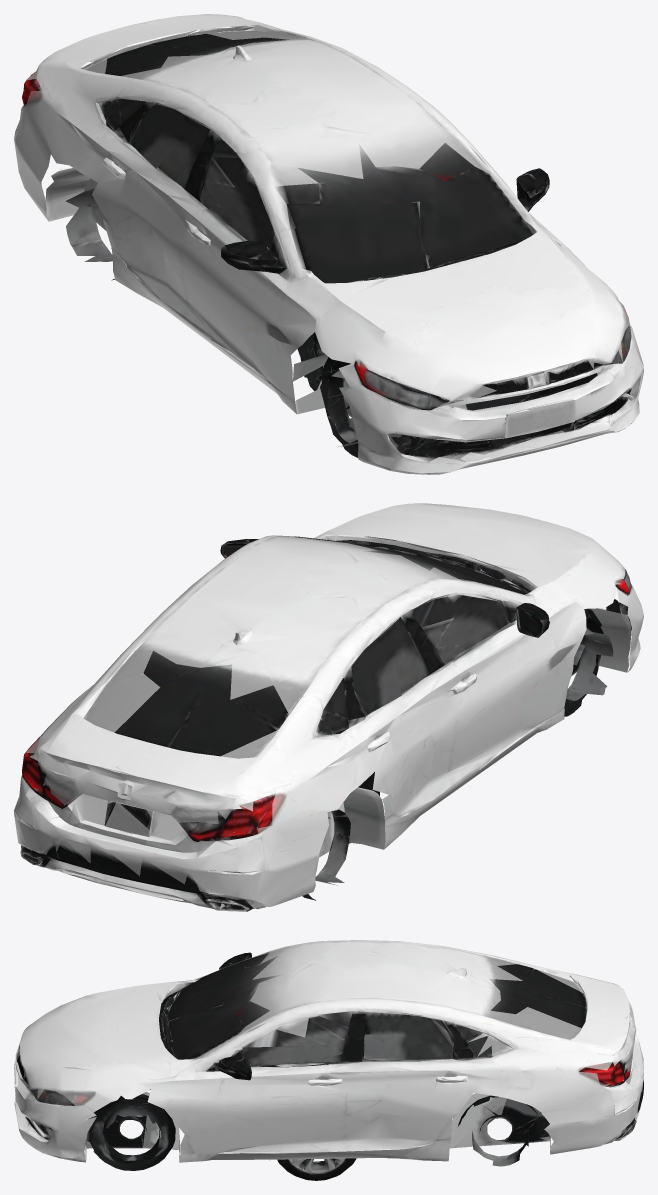
Rendered from honda-accord-v1.glb.
3 views of the same model, one above another, from view 1: azimuth 30°, elevation 25°; view 2: azimuth 150°, elevation 25°; view 3: azimuth 270°, elevation 25° (orthographic). The views are drawn at different scales.
Visible parts, largest first — view 1: paint, trim, wheel; view 2: paint, trim, taillamp; view 3: paint, trim, wheel, taillamp.
Part boxes in pixels (x1,y1,x2,y2): paint: (14, 14, 643, 474); trim: (27, 33, 631, 462); wheel: (297, 332, 324, 390); paint: (14, 503, 643, 911); trim: (20, 536, 632, 911); taillamp: (22, 737, 275, 838); paint: (14, 940, 643, 1162); trim: (17, 951, 643, 1170); wheel: (269, 1158, 356, 1180); taillamp: (579, 1061, 630, 1086).
Size of the model in its own units: 2.15 by 1.81 by 4.88.
Materials: 4 (4 with a texture image).
